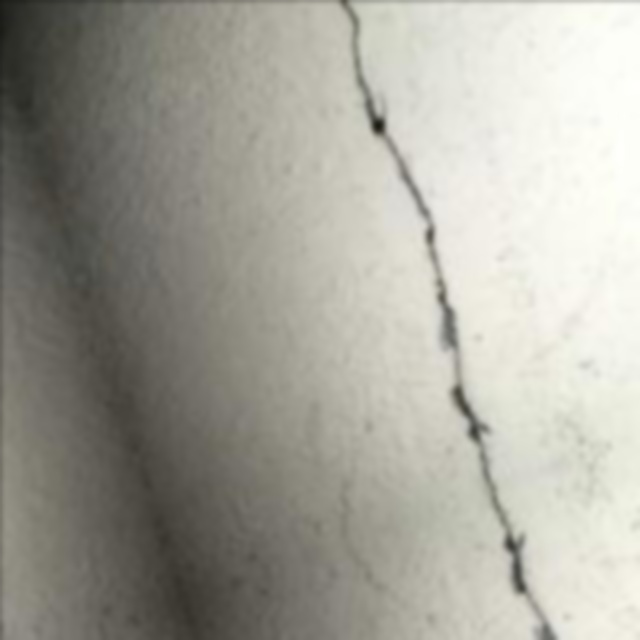SurfaceCrack: (332, 0, 558, 640)
